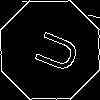U: (25, 25, 81, 76)
